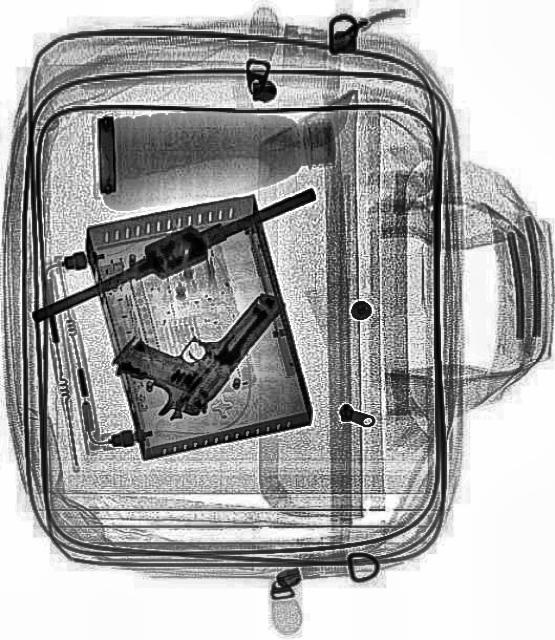Gun: (104, 235, 287, 435)
